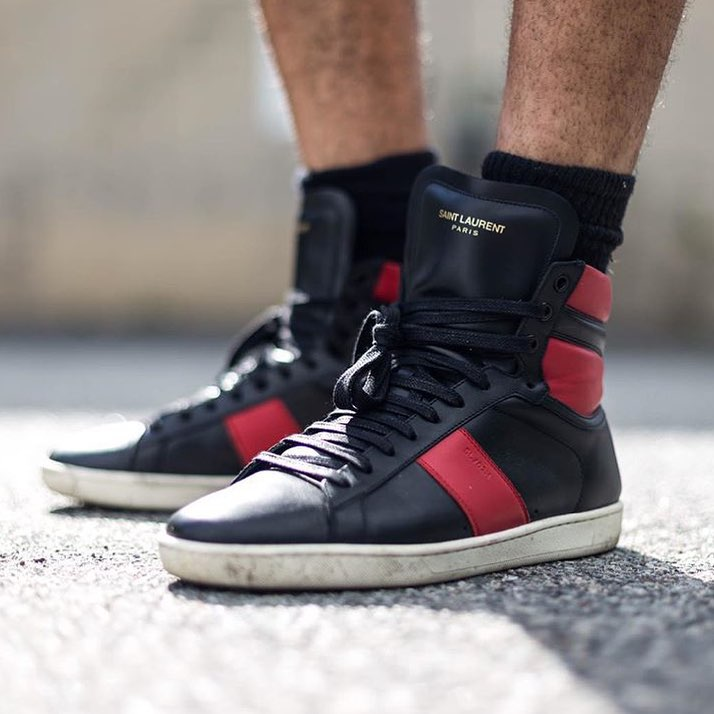sneaker: (135, 151, 660, 606), (30, 136, 459, 527)
